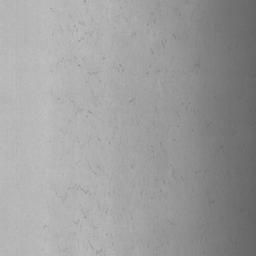Silk spot: (72, 184, 91, 196)
